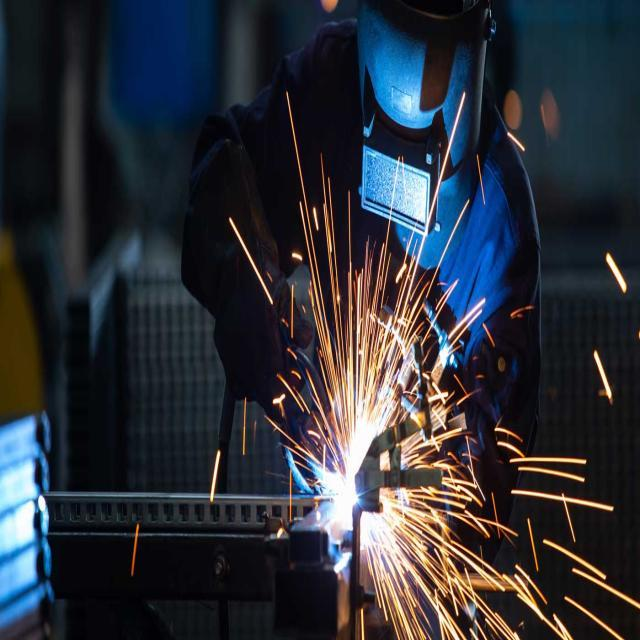with_helmet: (359, 0, 488, 267)
